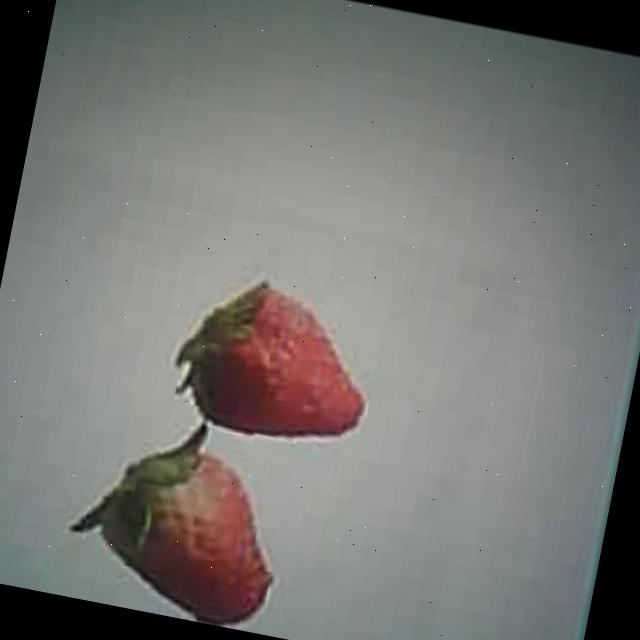strawberry: (98, 440, 290, 632), (191, 278, 387, 454)
